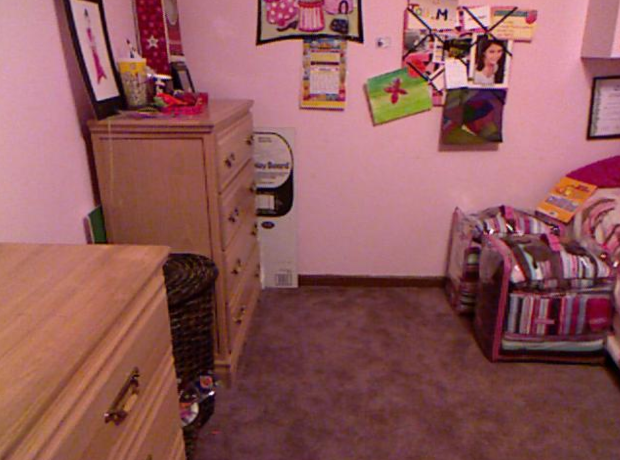cabinet: (0, 242, 175, 460), (180, 100, 267, 338)
cabinetDoor: (106, 369, 134, 436), (223, 126, 252, 167), (224, 187, 256, 219), (229, 244, 258, 274), (228, 293, 256, 323)
